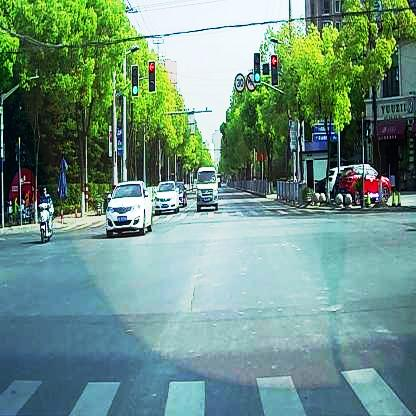Speed Limit -30-: (234, 72, 246, 92)
